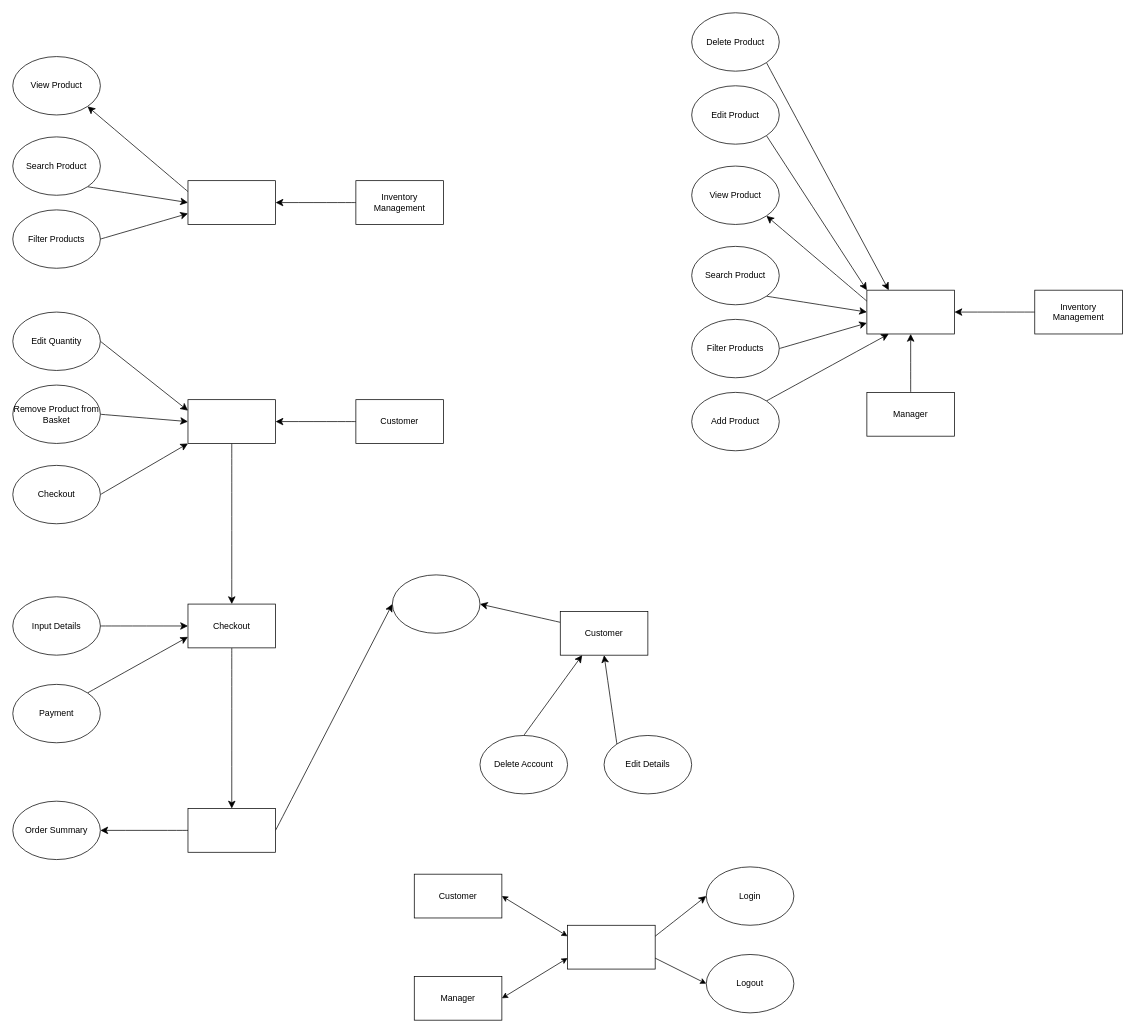
Image size: 1135x1033. Some labels were removed from this diagram. Each missing label, with the box of its shape:
Account: (567, 925, 655, 969)
Admin Catalog: (866, 289, 954, 334)
Basket: (187, 399, 276, 443)
Catalog: (187, 180, 276, 224)
Order History: (392, 574, 480, 633)
Orders: (187, 808, 276, 852)
